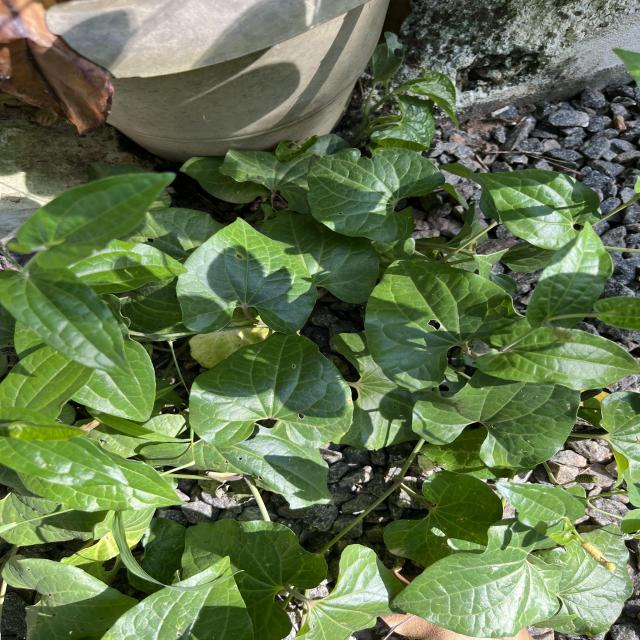Piper longum: (387, 514, 568, 640), (362, 254, 527, 392), (187, 330, 356, 450), (173, 214, 320, 336), (302, 144, 448, 244)
